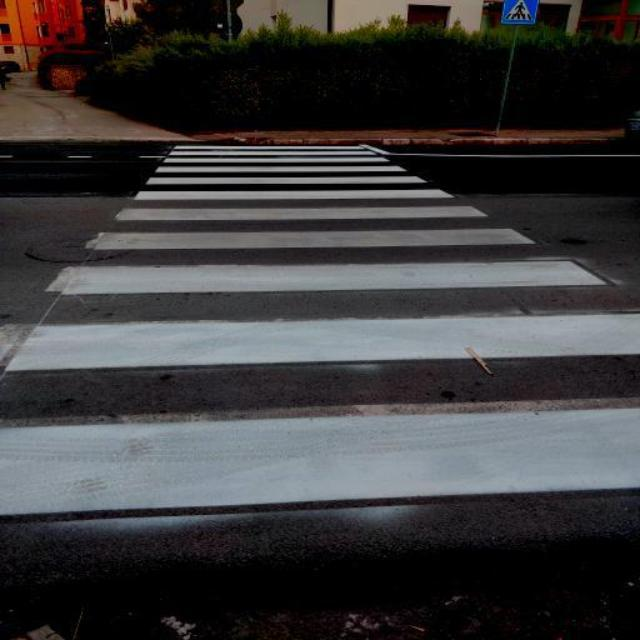sidewalk: (0, 140, 640, 634)
